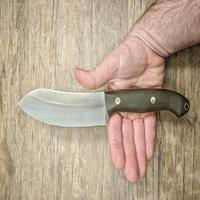knife: (12, 78, 196, 136)
